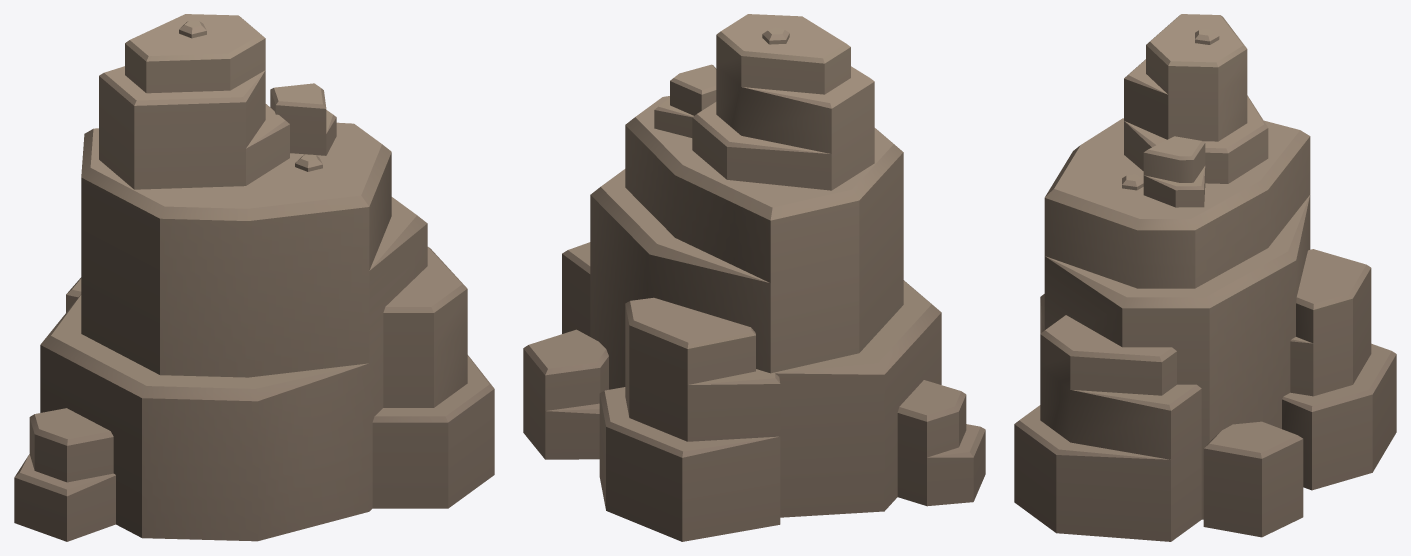
File: Rock_1_K_Color3.fbx
The picture shows the model from 3 angles, left to right: view 1: azimuth 30°, elevation 25°; view 2: azimuth 150°, elevation 25°; view 3: azimuth 270°, elevation 25°; orthographic projection. The views are drawn at different scales.
Visible parts, largest first — view 1: Rock_1_K_Color3; view 2: Rock_1_K_Color3; view 3: Rock_1_K_Color3.
Part boxes in pixels (<box>): Rock_1_K_Color3: <box>14,14,494,541</box>; Rock_1_K_Color3: <box>523,14,985,541</box>; Rock_1_K_Color3: <box>1014,14,1396,541</box>.
Size of the model in its own units: 3.69 by 3.65 by 3.13.
